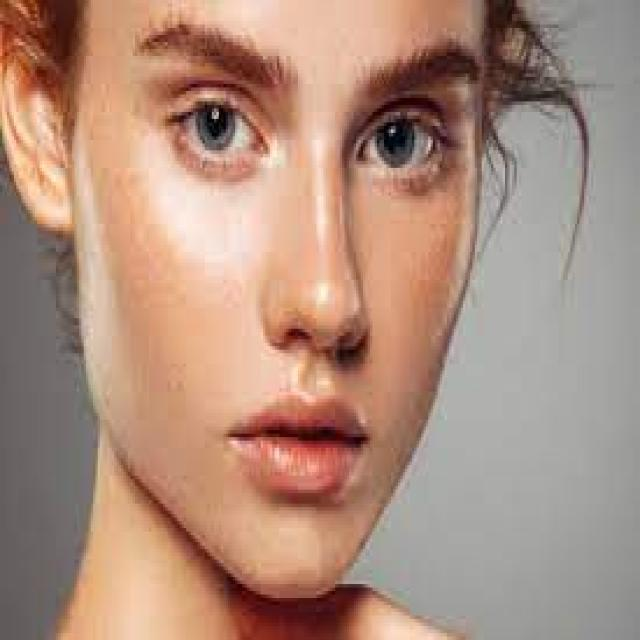oily: (411, 226, 461, 292), (112, 180, 160, 244)
